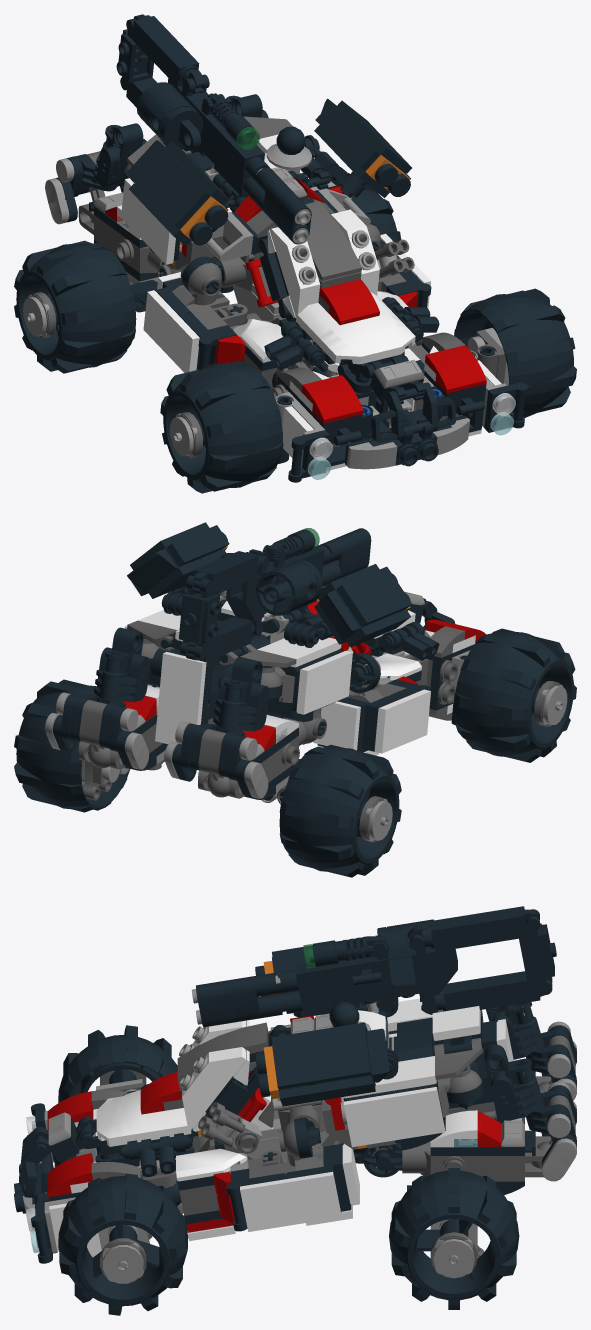
The model's file is rv-6294-strider-rover.dae.
3 views of the same model, one above another, from view 1: azimuth 30°, elevation 25°; view 2: azimuth 150°, elevation 25°; view 3: azimuth 270°, elevation 25° (orthographic). The views are drawn at different scales.
Size of the model in its own units: 388 by 477 by 285.
